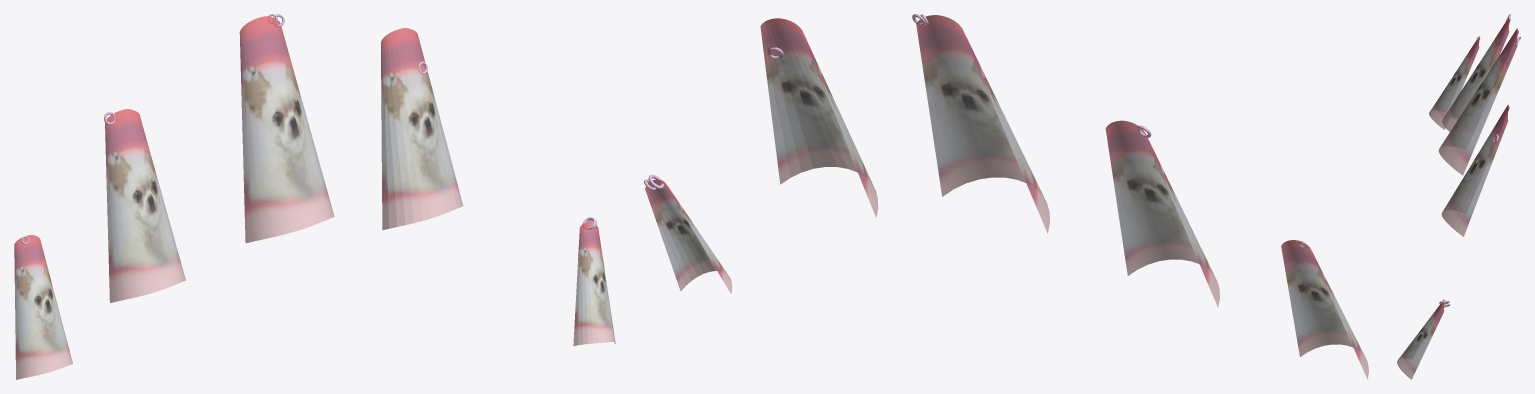
The model's file is drei.glb.
3 renders of one model, left to right at view 1: azimuth 30°, elevation 25°; view 2: azimuth 150°, elevation 25°; view 3: azimuth 270°, elevation 25°, orthographic. The views are drawn at different scales.
Visible parts, largest first — view 1: Cylinder.001, Cylinder.002, Cylinder.003, Cylinder.004, Cylinder.005; view 2: Cylinder.001, Cylinder.002, Cylinder.003, Cylinder.004, Cylinder.005; view 3: Cylinder.001, Cylinder.002, Cylinder.003, Cylinder.004, Cylinder.005.
Boxes of the visible parts, x1=… form: Cylinder.001: x1=239, y1=16, x2=334, y2=243; Cylinder.002: x1=381, y1=28, x2=463, y2=230; Cylinder.003: x1=105, y1=109, x2=185, y2=302; Cylinder.004: x1=14, y1=235, x2=72, y2=379; Cylinder.005: x1=573, y1=222, x2=615, y2=345; Cylinder.001: x1=916, y1=15, x2=1049, y2=233; Cylinder.002: x1=760, y1=18, x2=878, y2=217; Cylinder.003: x1=1105, y1=120, x2=1219, y2=307; Cylinder.004: x1=1281, y1=240, x2=1368, y2=379; Cylinder.005: x1=645, y1=179, x2=732, y2=293; Cylinder.001: x1=1438, y1=28, x2=1518, y2=175; Cylinder.002: x1=1441, y1=104, x2=1509, y2=236; Cylinder.003: x1=1442, y1=17, x2=1510, y2=131; Cylinder.004: x1=1429, y1=36, x2=1480, y2=129; Cylinder.005: x1=1397, y1=299, x2=1444, y2=379.
Bounding box in the file's own units: 5.91 × 3.34 × 1.5.
Materials: 2 (1 with a texture image).
